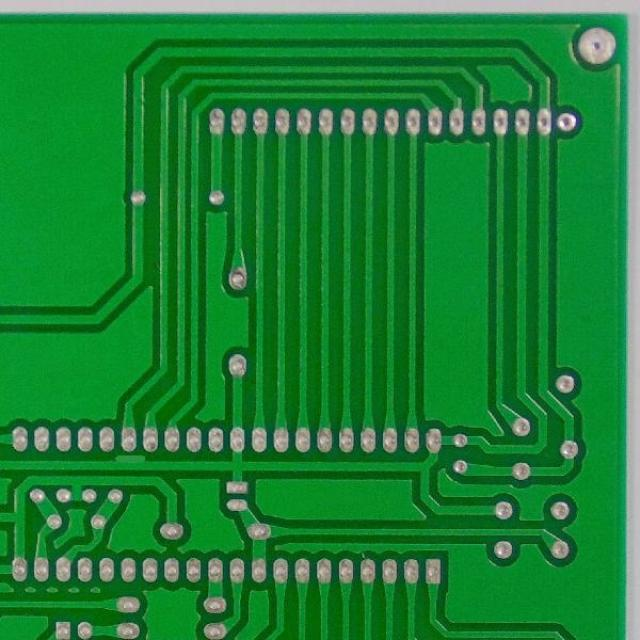Spur: (109, 451, 150, 475)
